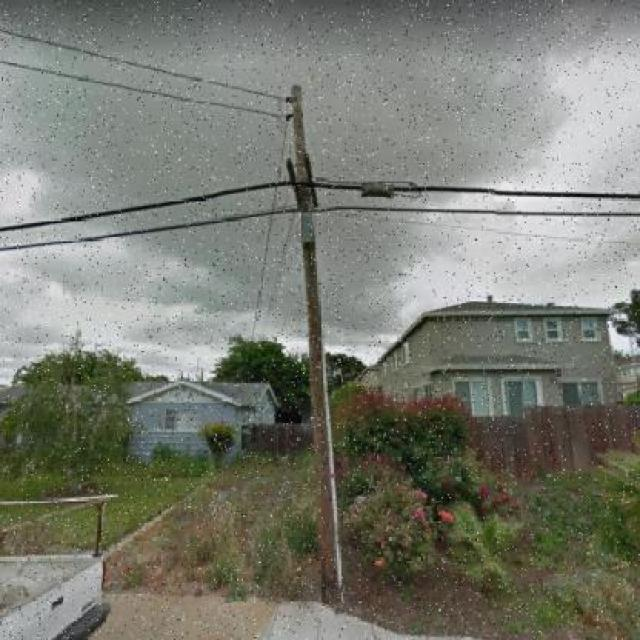pole: (229, 53, 377, 630)
